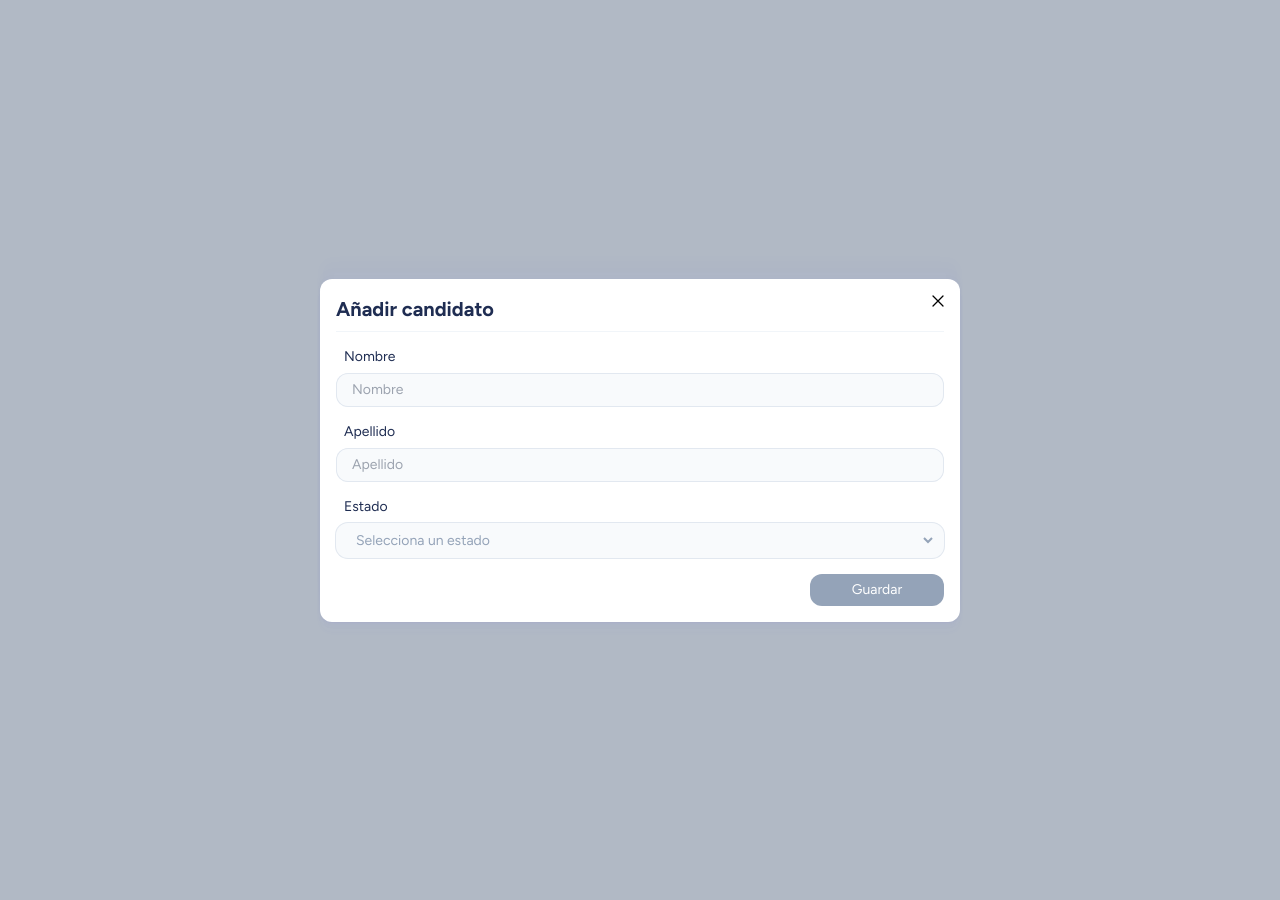
Test case: HrAdminAddCandidateModal › el boton se habilita cuando se rellenan los campos
Expected: the button with test id "submit-button" is disabled, [810, 574, 944, 606]
Type "John" into the field with id "firstname" at (640, 390), box [336, 373, 944, 406]
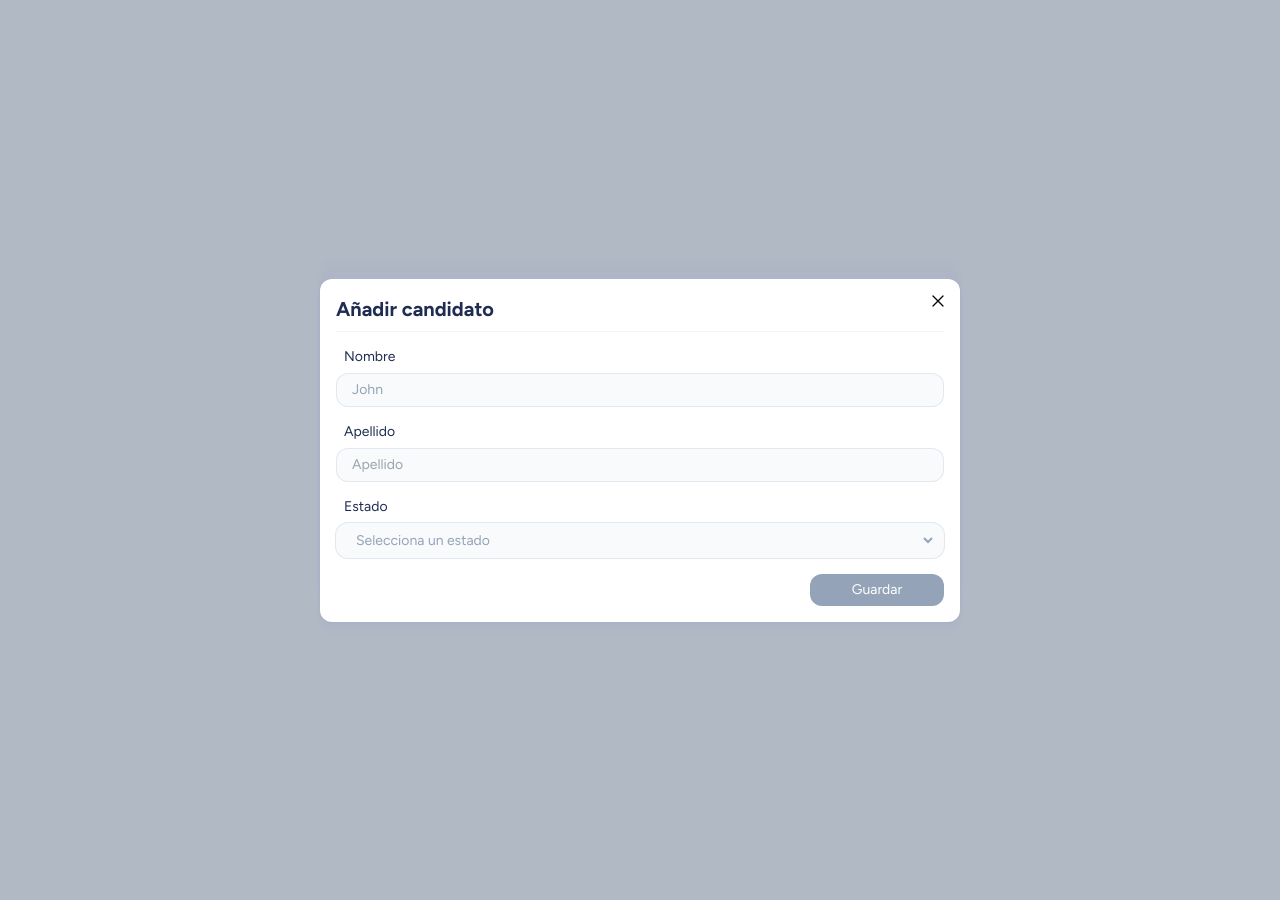
Type "Doe" into the field with id "surname" at (640, 465), box [336, 448, 944, 482]
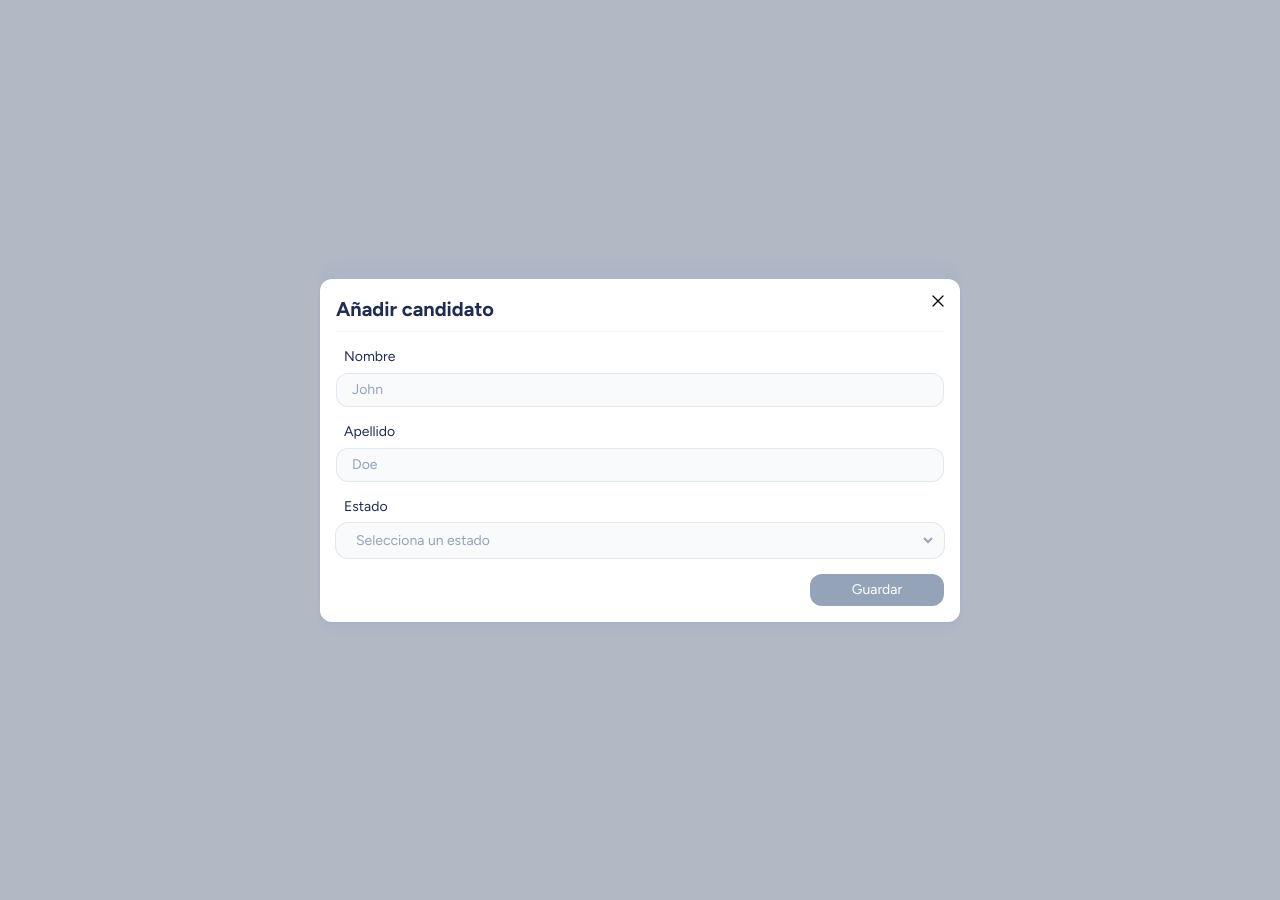
Select "New" in the dropdown with id "status" at (640, 540), box [336, 523, 944, 558]
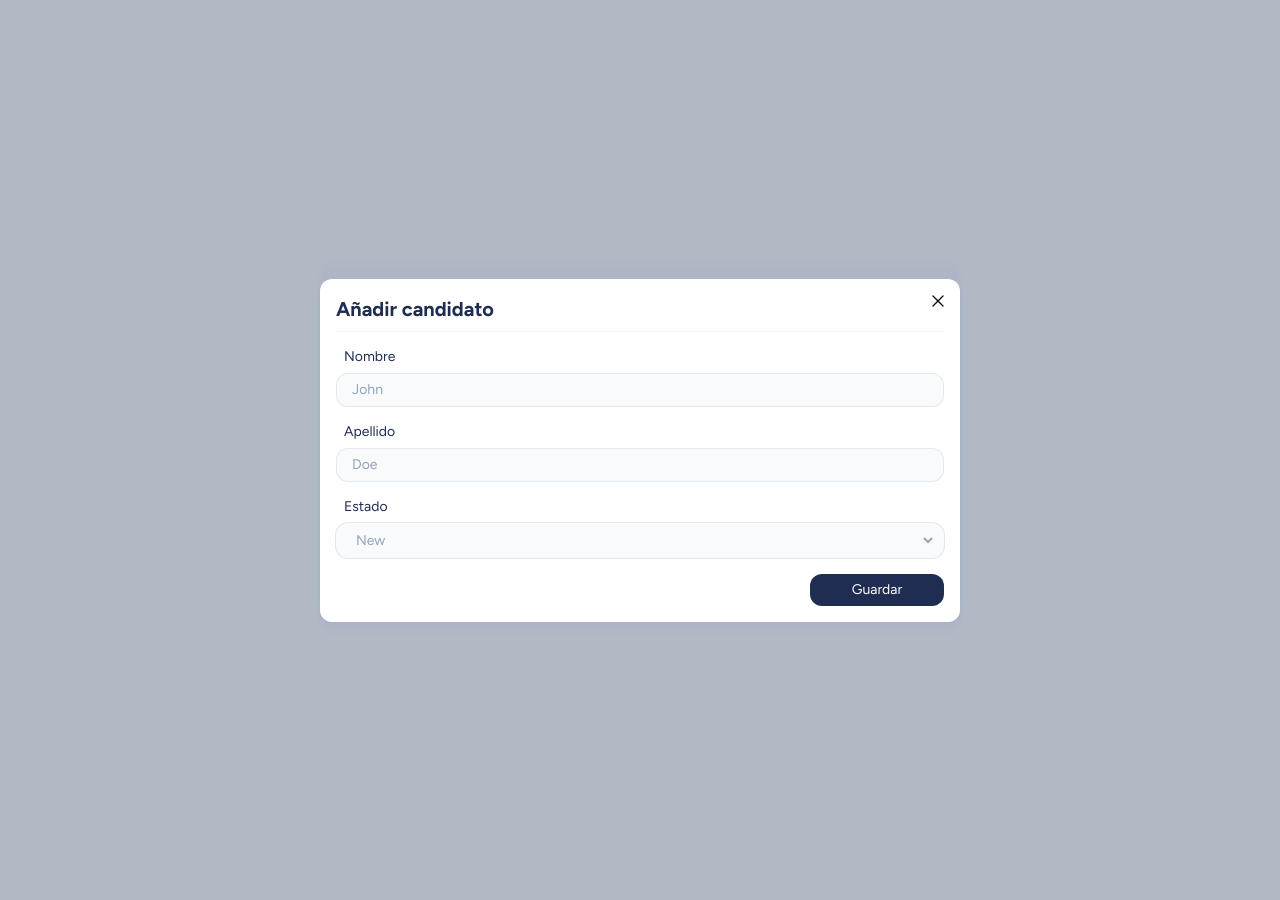
Expected: the button with test id "submit-button" is enabled, [810, 574, 944, 606]
